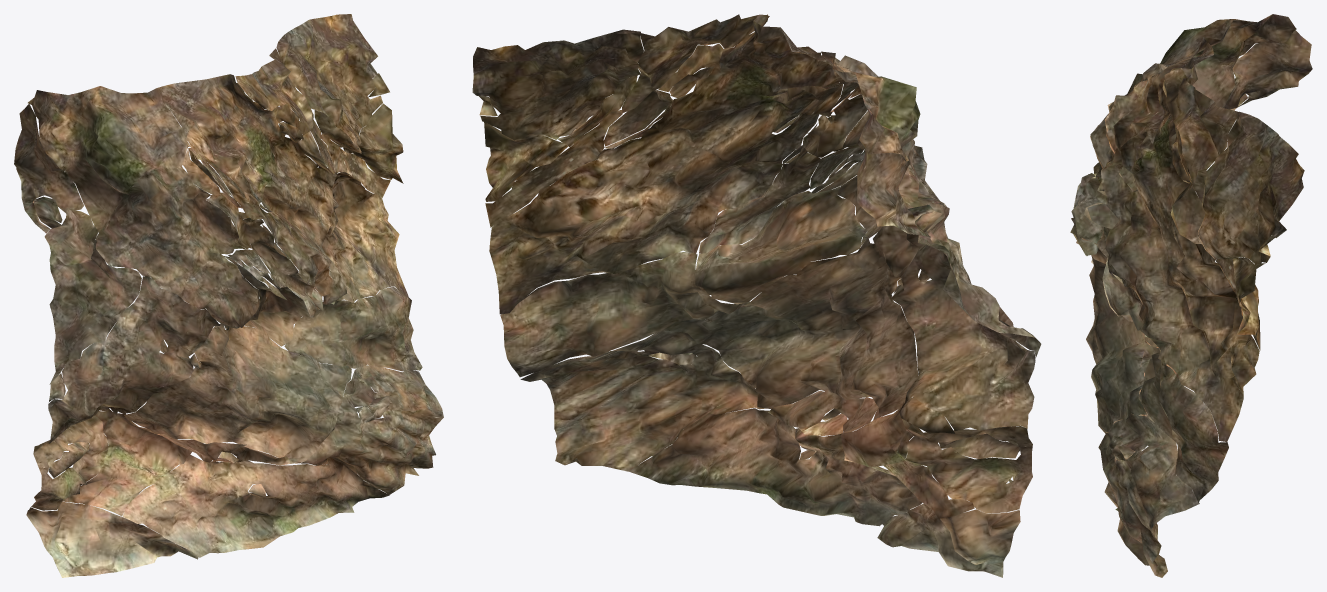
Rendered from mountain_a.glb.
3 renders of one model, left to right at view 1: azimuth 30°, elevation 25°; view 2: azimuth 150°, elevation 25°; view 3: azimuth 270°, elevation 25°, orthographic. The views are drawn at different scales.
Parts seen in each view (by area): view 1: mountainside; view 2: mountainside; view 3: mountainside.
Part boxes in pixels (x1,y1,x2,y2): mountainside: (14,14,443,577); mountainside: (472,14,1041,577); mountainside: (1070,14,1312,577).
Size of the model in its own units: 28 by 28.86 by 14.48.
1 material, 1 textured.
